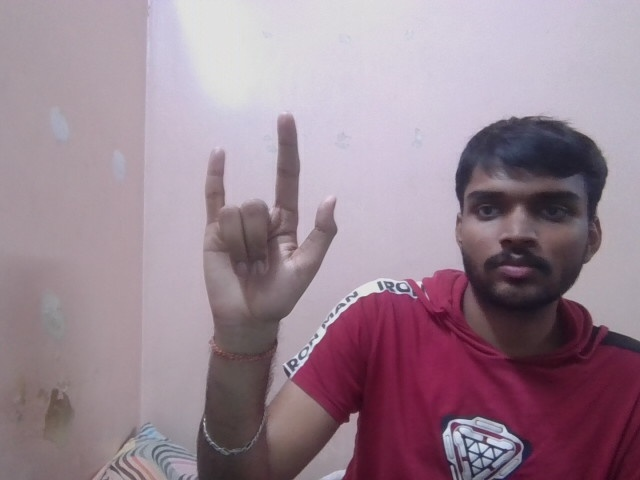I Love You: (197, 103, 336, 326)
